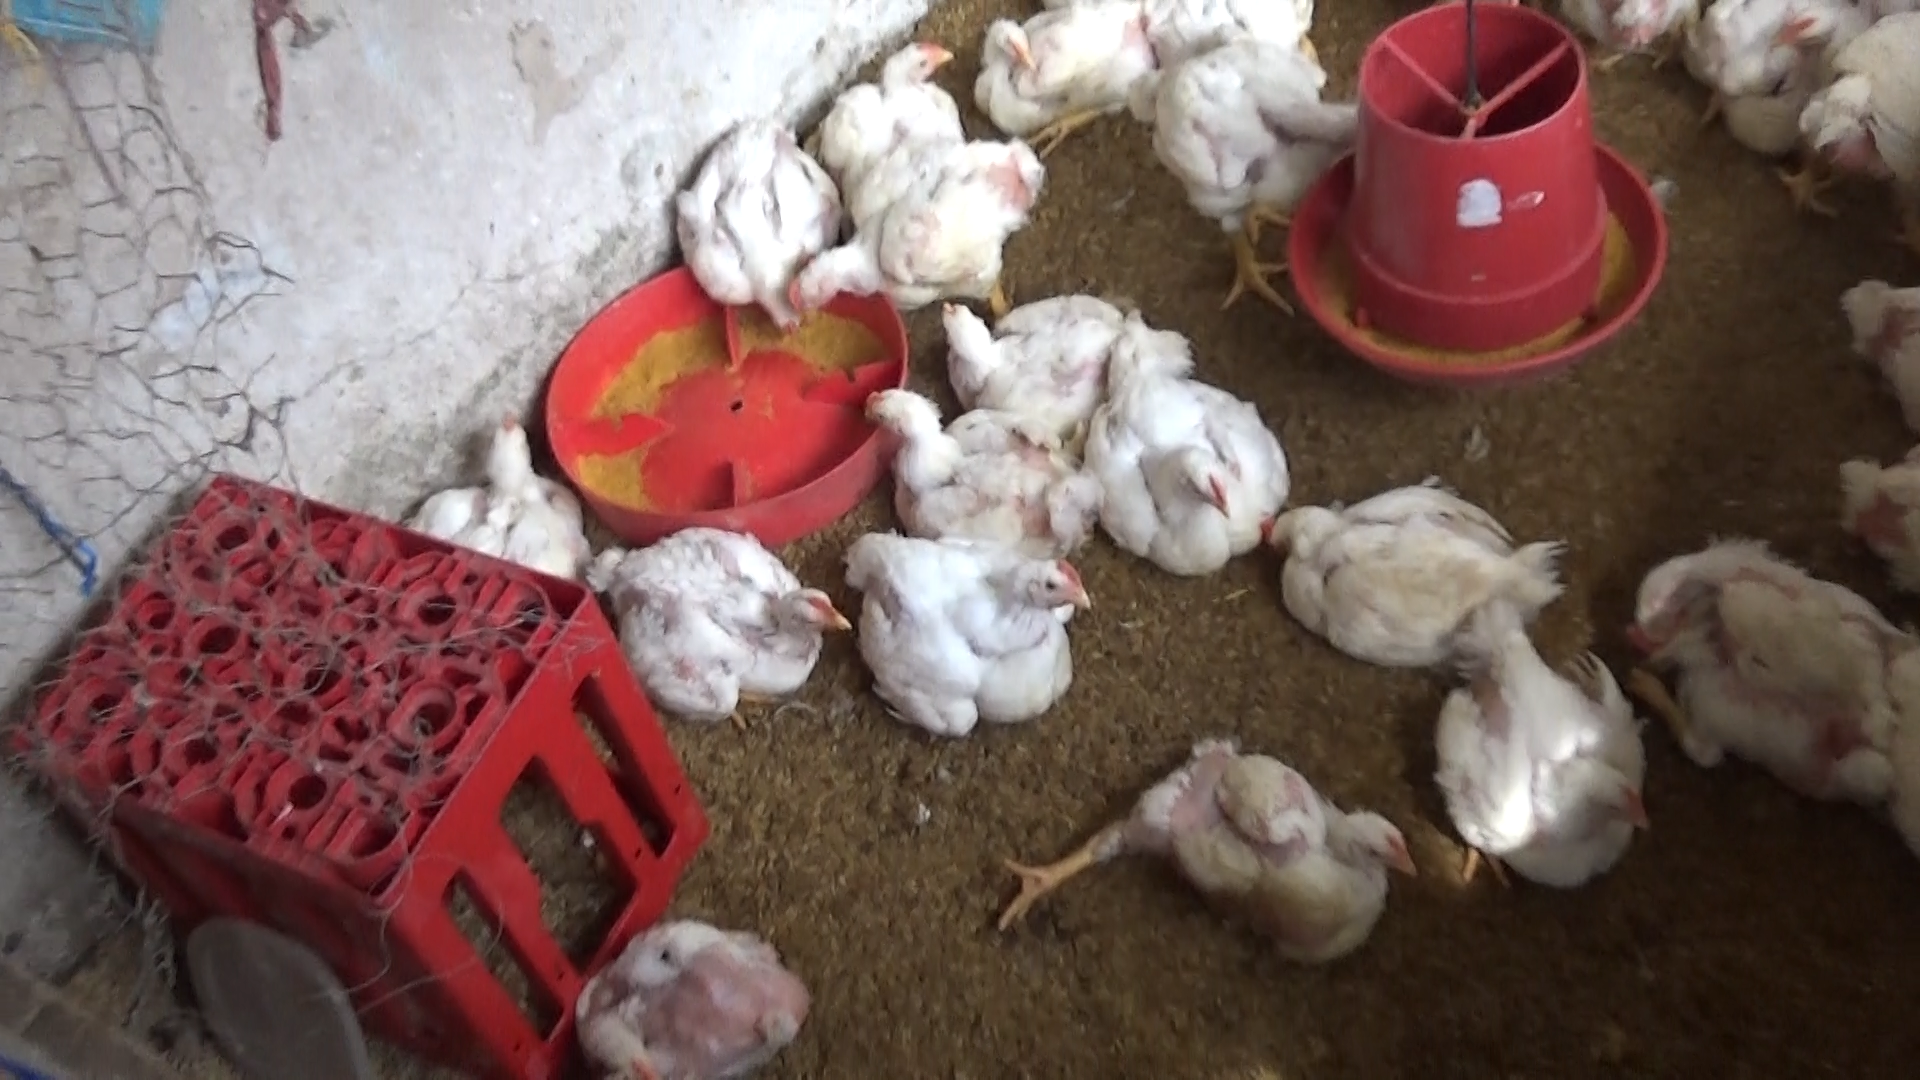Pollos: (978, 738, 1431, 986), (1406, 607, 1658, 909), (1139, 46, 1391, 336), (1615, 533, 1884, 803), (1250, 469, 1576, 687), (837, 508, 1095, 760), (585, 504, 852, 731), (773, 123, 1060, 323), (545, 899, 825, 1079), (1092, 302, 1280, 567), (851, 372, 1117, 547), (666, 113, 843, 334), (406, 396, 591, 582), (924, 277, 1127, 434), (981, 0, 1168, 162), (791, 36, 978, 196), (1785, 3, 1920, 203), (1677, 0, 1857, 128)
